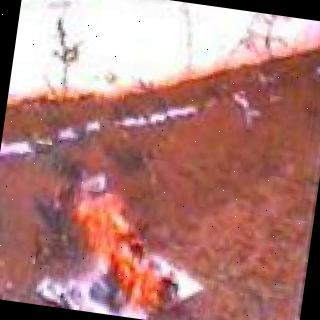fire: (50, 168, 212, 320)
